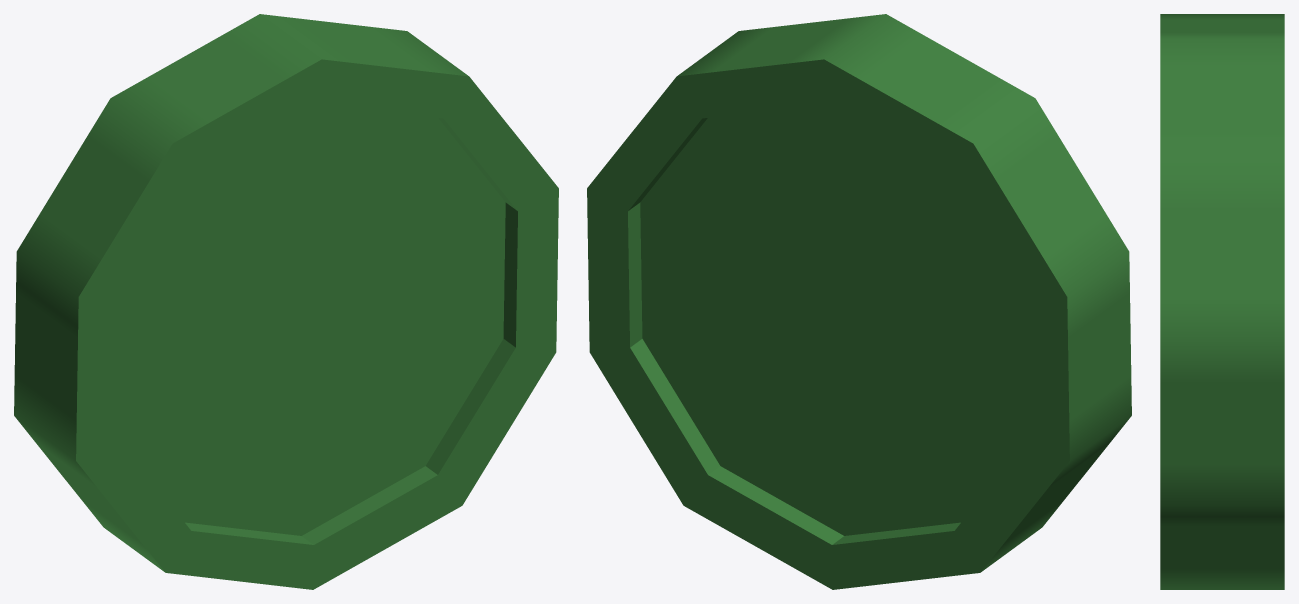
Rendered from Coin.fbx.
3 renders of one model, left to right at view 1: azimuth 30°, elevation 25°; view 2: azimuth 150°, elevation 25°; view 3: azimuth 270°, elevation 25°, orthographic.
Visible parts, largest first — view 1: Coin4; view 2: Coin4; view 3: Coin4.
Part boxes in pixels (left/top/right/bottom): Coin4: left=14, top=14, right=558, bottom=589; Coin4: left=587, top=14, right=1131, bottom=589; Coin4: left=1160, top=14, right=1284, bottom=589.
Size of the model in its own units: 1.13 by 1.18 by 0.2513.
